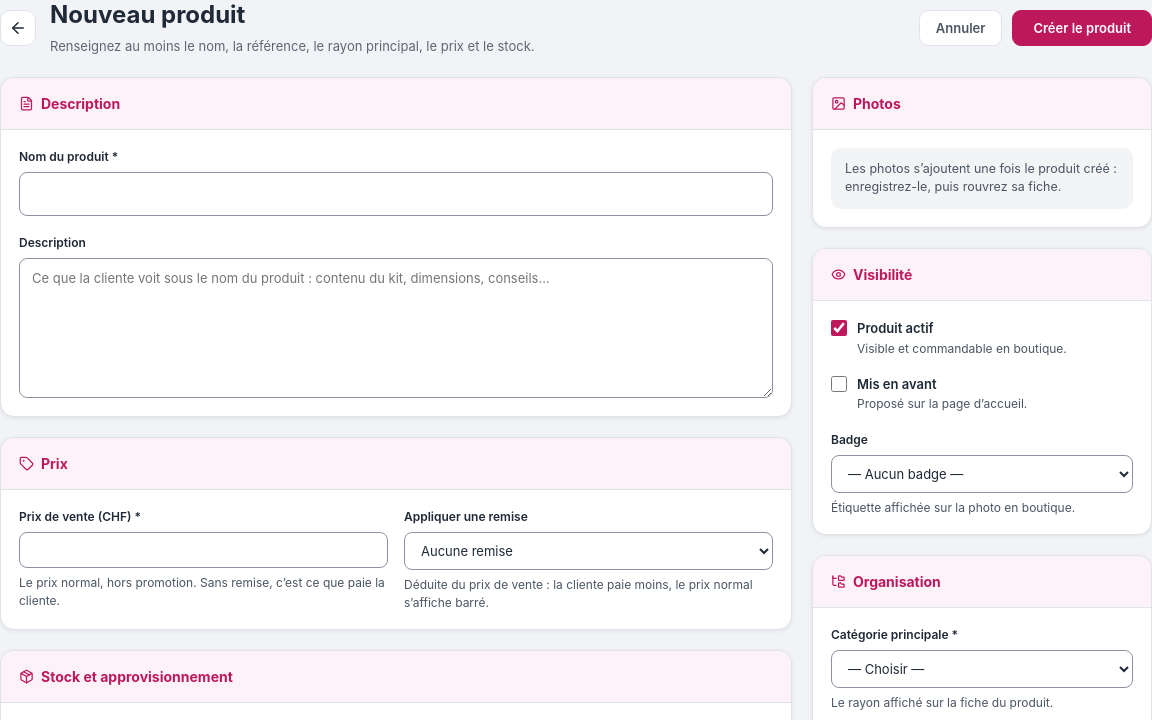
Test: ProductForm — aperçu boutique › refuse une remise qui ne laisse aucun prix payé valide
The image size is (1152, 720).
Type "50" into the number field labelled "Prix de vente (CHF) *". click: (204, 550)
box: [19,532,388,568]
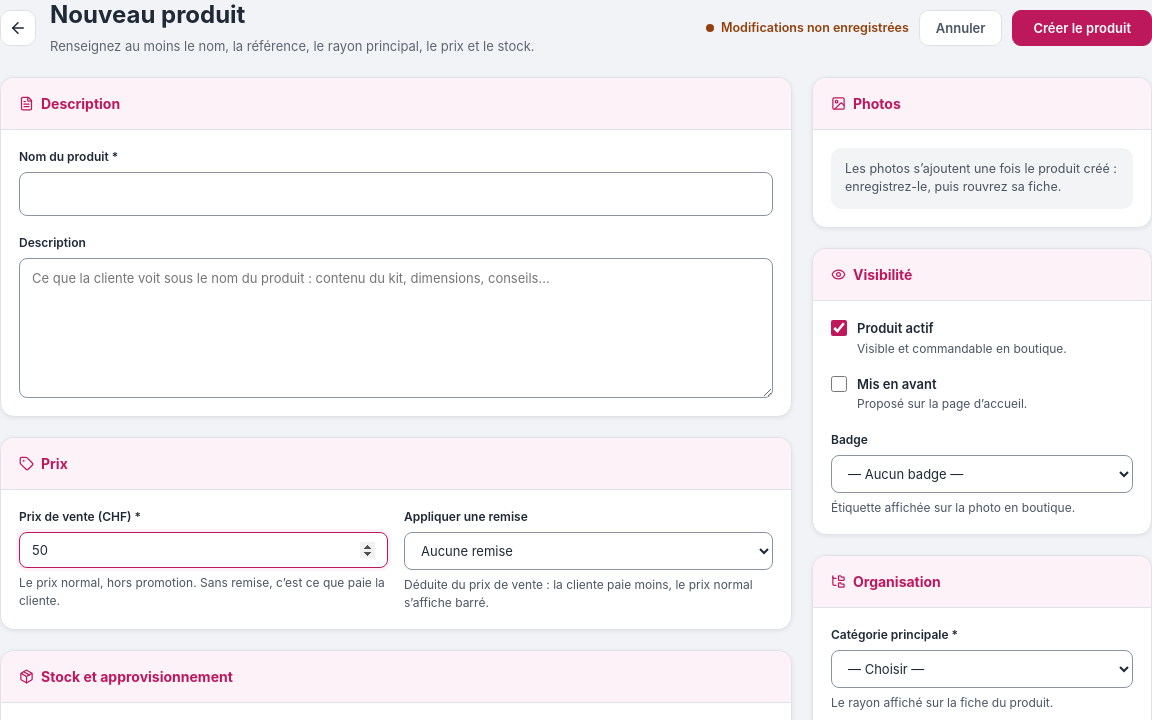
Select "Remise en CHF" in the dropdown labelled "Appliquer une remise". click: (588, 551)
box: [404,532,773,570]
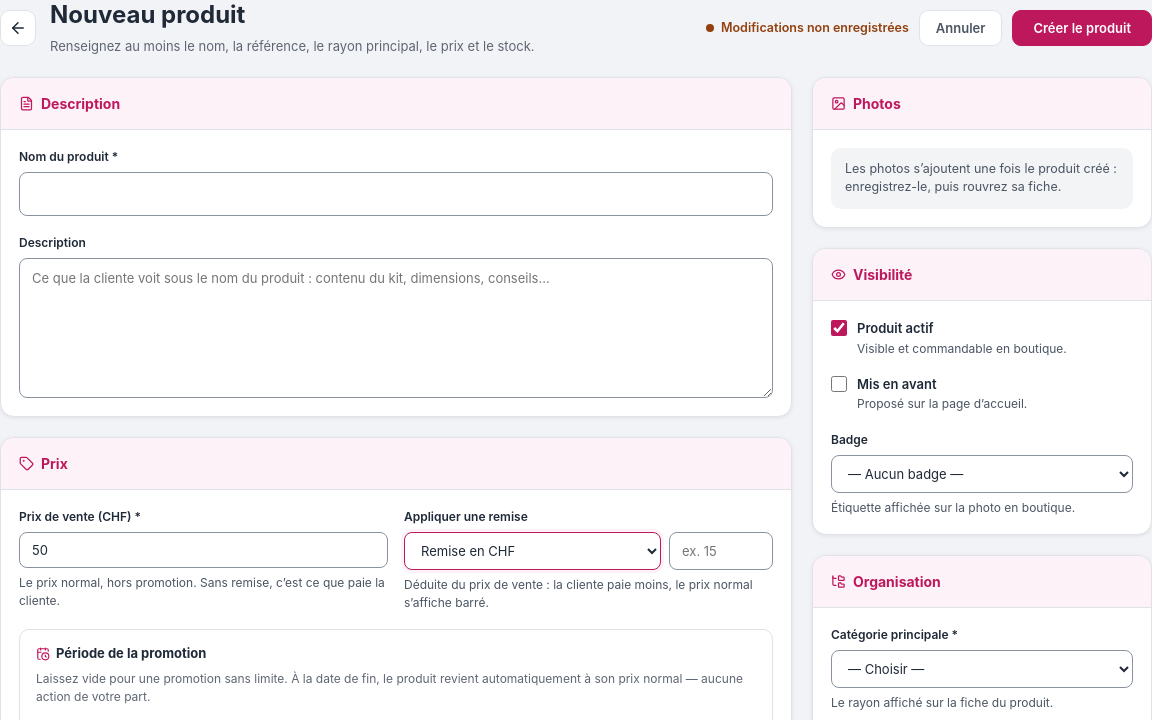
Type "50" into the number field named "Valeur de la réduction". click: (721, 551)
box: [669,532,773,570]
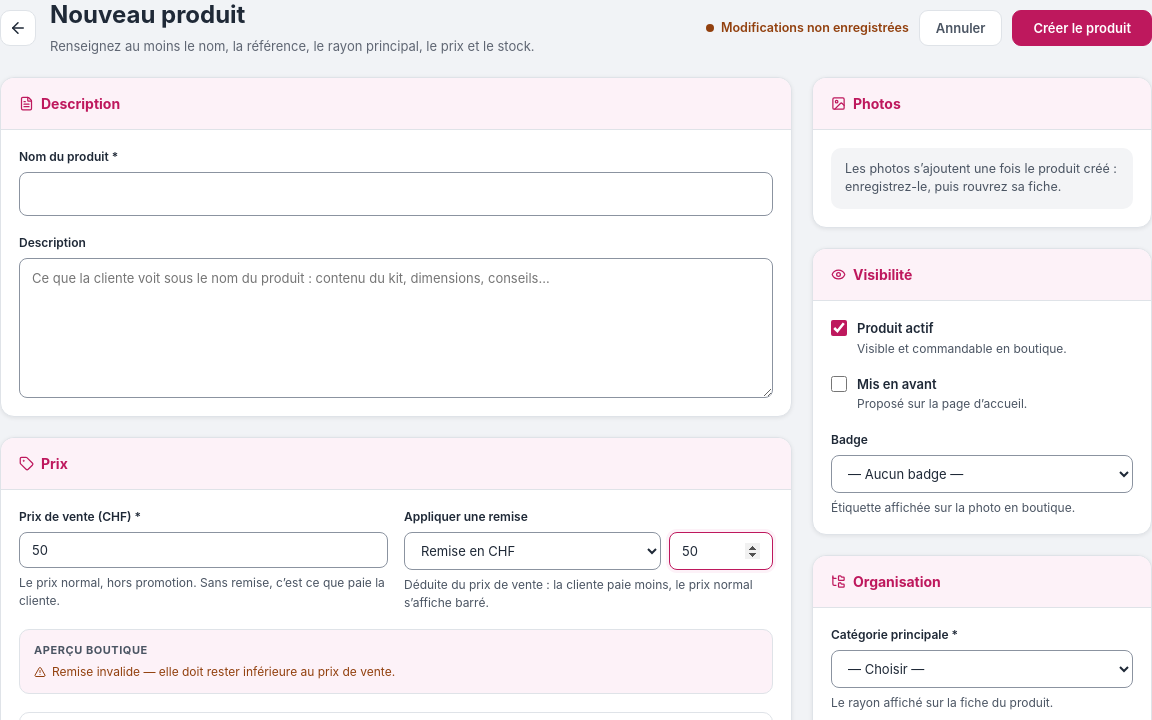
expect the text "Remise invalide" is shown: met, box [52,664,395,679]
